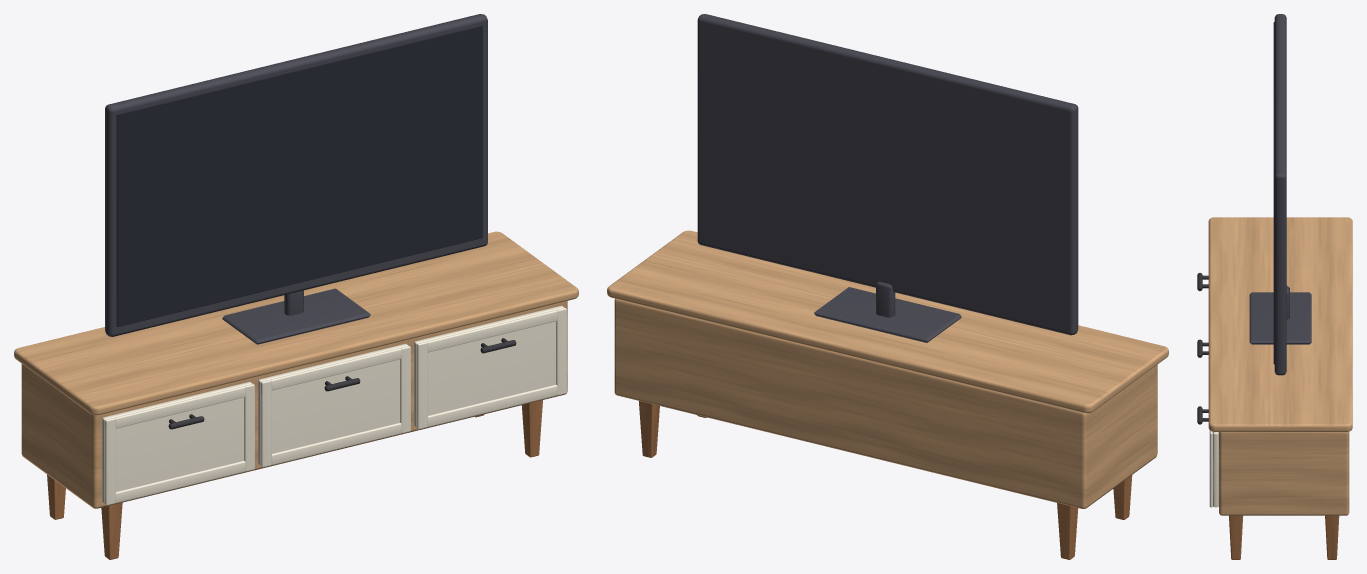
The model's file is prop_tv.glb.
3 renders of one model, left to right at view 1: azimuth 30°, elevation 25°; view 2: azimuth 150°, elevation 25°; view 3: azimuth 270°, elevation 25°, orthographic. The views are drawn at different scales.
Parts seen in each view (by area): view 1: prop_tv; view 2: prop_tv; view 3: prop_tv.
Boxes of the visible parts, bbox=[...] form: prop_tv: bbox=[14, 14, 578, 559]; prop_tv: bbox=[607, 14, 1168, 559]; prop_tv: bbox=[1197, 14, 1352, 559].
Size of the model in its own units: 1.8 by 1.51 by 0.5662.
Materials: 6 (2 with a texture image).
